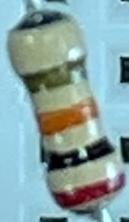Black: (45, 135, 117, 173)
Orange: (36, 95, 99, 136)
Red: (50, 169, 127, 212)
Side-Gold: (17, 54, 86, 93)
